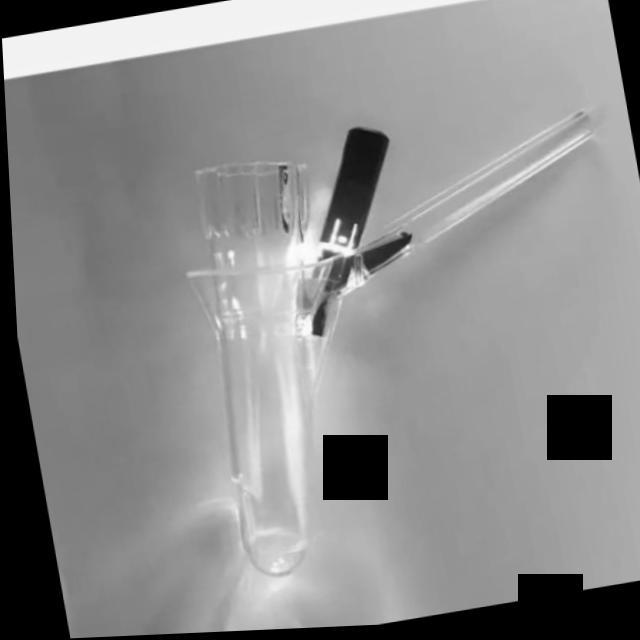Protoscope: (136, 63, 640, 595)
